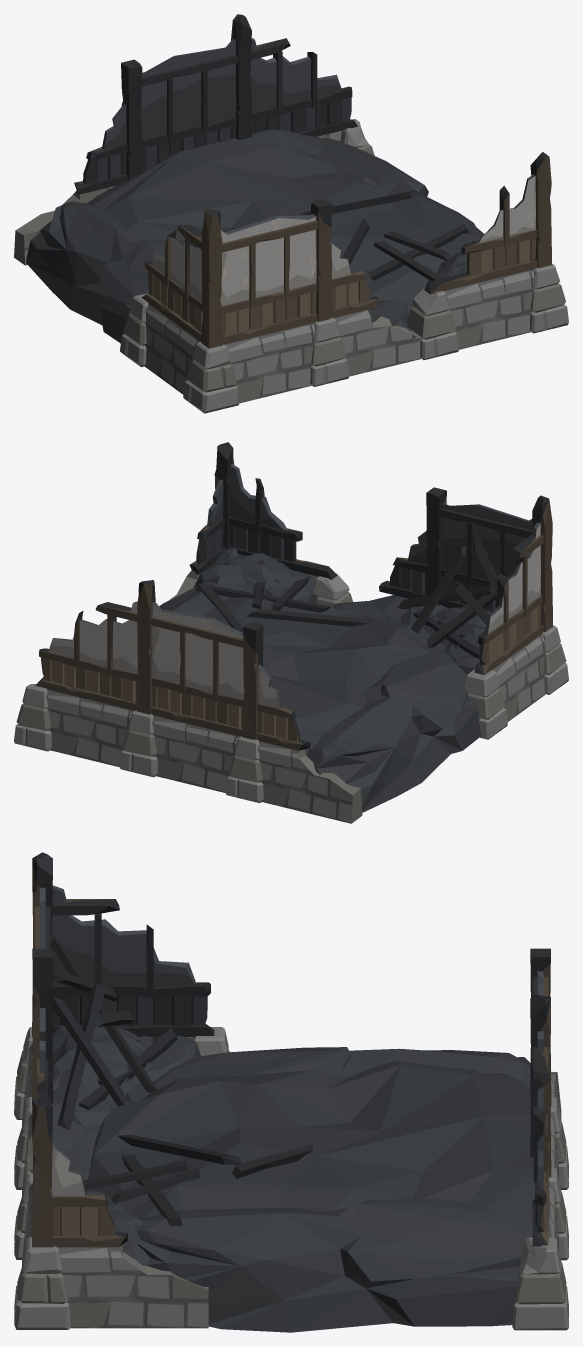
The model's file is bld_house_ruin.gltf.
3 renders of one model, top to bottom at view 1: azimuth 30°, elevation 25°; view 2: azimuth 150°, elevation 25°; view 3: azimuth 270°, elevation 25°, orthographic. The views are drawn at different scales.
Visible parts, largest first — view 1: bld_house_ruin; view 2: bld_house_ruin; view 3: bld_house_ruin.
Boxes of the visible parts, box(x1,y1,x2,y2) form: bld_house_ruin: box(14, 14, 568, 413); bld_house_ruin: box(14, 442, 568, 823); bld_house_ruin: box(14, 852, 568, 1332).
Bounding box in the file's own units: 8.38 × 4.25 × 8.36.
Materials: 1 (1 with a texture image).
